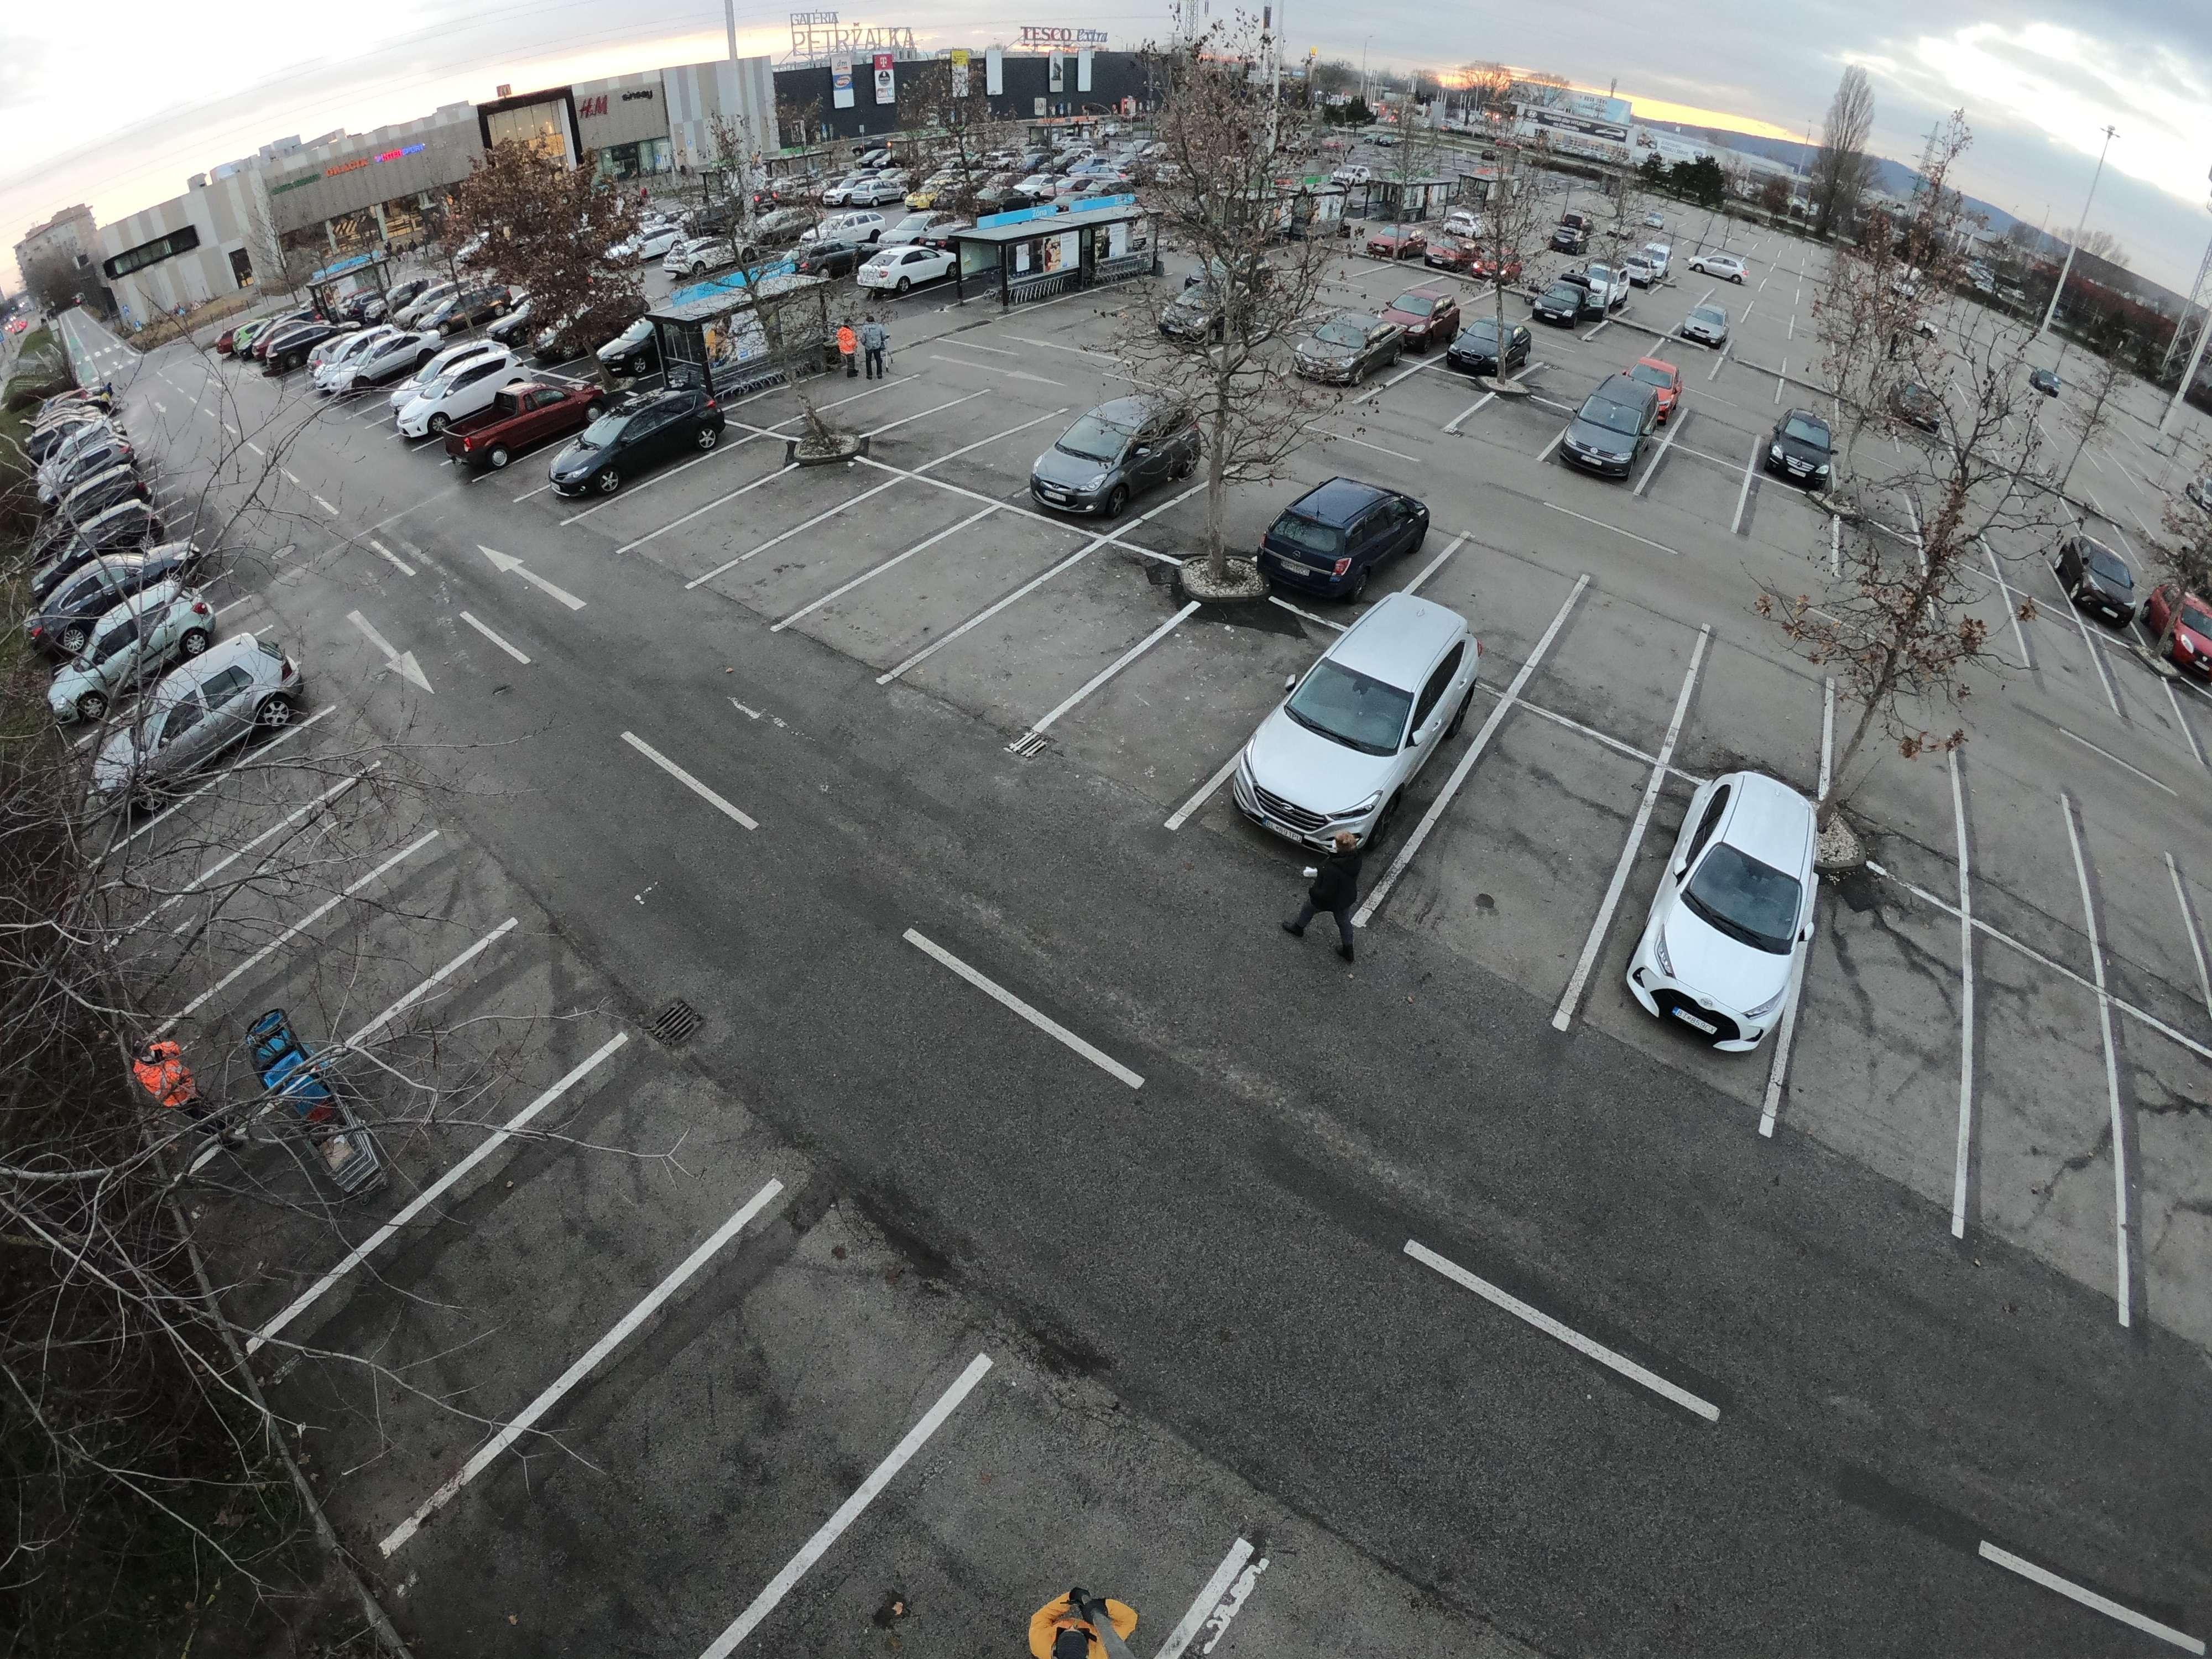empty: (1214, 601, 1484, 847), (1615, 744, 1825, 1047), (117, 660, 298, 789), (1019, 396, 1200, 519), (1259, 476, 1423, 599), (550, 396, 721, 505), (59, 605, 221, 706), (35, 545, 199, 636), (1559, 375, 1676, 483), (465, 380, 599, 472), (1291, 301, 1428, 389), (31, 474, 167, 561), (385, 343, 516, 427), (2055, 533, 2160, 633), (1150, 260, 1251, 349), (315, 326, 435, 396), (2148, 573, 2212, 690), (1761, 403, 1848, 486), (1444, 307, 1541, 380), (860, 235, 970, 298), (789, 221, 876, 281), (1519, 272, 1595, 329), (1672, 307, 1735, 352), (1620, 247, 1676, 288), (1698, 247, 1752, 286)
occupied: (857, 1497, 1116, 1657), (646, 1324, 867, 1490), (1430, 760, 1615, 946), (362, 985, 578, 1140), (1799, 934, 1973, 1117), (1954, 999, 2114, 1187), (470, 1168, 651, 1305), (1958, 793, 2085, 965), (1540, 612, 1698, 720), (1834, 732, 1973, 849), (2118, 1087, 2212, 1241), (1681, 666, 1811, 774), (1435, 523, 1548, 645), (2095, 830, 2175, 990), (1737, 486, 1860, 584), (1129, 659, 1252, 737), (223, 843, 331, 911), (1017, 598, 1130, 657), (1179, 481, 1277, 549), (2094, 678, 2189, 746), (2029, 626, 2113, 702), (317, 929, 418, 988), (916, 549, 1008, 606), (211, 772, 298, 830), (820, 514, 909, 561), (1660, 460, 1730, 509), (982, 420, 1035, 484), (1480, 408, 1557, 451), (1388, 383, 1454, 422), (664, 469, 730, 507), (916, 415, 981, 451), (833, 404, 888, 443), (747, 493, 808, 528)
